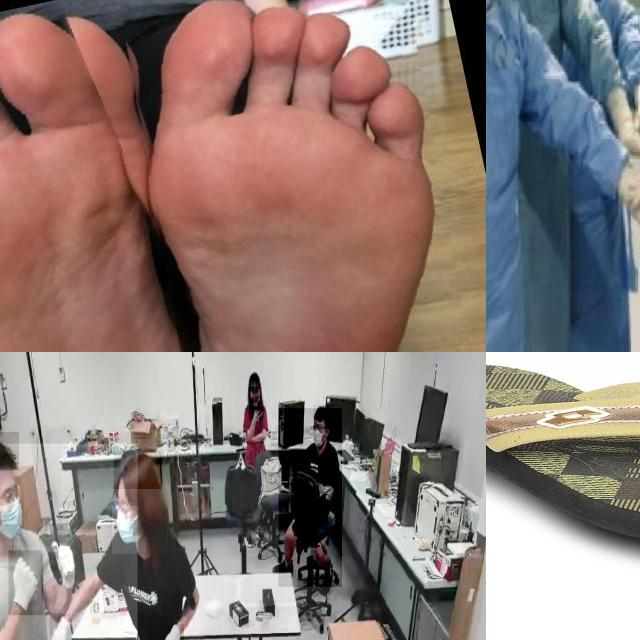Barefoots: (136, 0, 453, 352), (0, 7, 189, 352)
Sandals: (486, 361, 640, 550)
face_mask: (112, 506, 138, 554), (0, 493, 24, 540), (311, 422, 327, 459)
face_nomask: (248, 386, 260, 404)
hand_glove: (9, 550, 43, 616), (46, 536, 79, 590), (616, 125, 640, 167), (49, 613, 71, 640), (157, 624, 184, 640), (628, 181, 640, 215), (634, 104, 640, 142)
hand_noglove: (252, 406, 264, 421)
head_nohelmet: (113, 451, 163, 490), (0, 432, 19, 471), (313, 404, 331, 420), (248, 372, 260, 382)
person: (486, 0, 629, 352), (486, 0, 587, 352), (62, 439, 201, 640), (0, 443, 138, 640), (278, 408, 342, 588), (235, 372, 277, 482)
